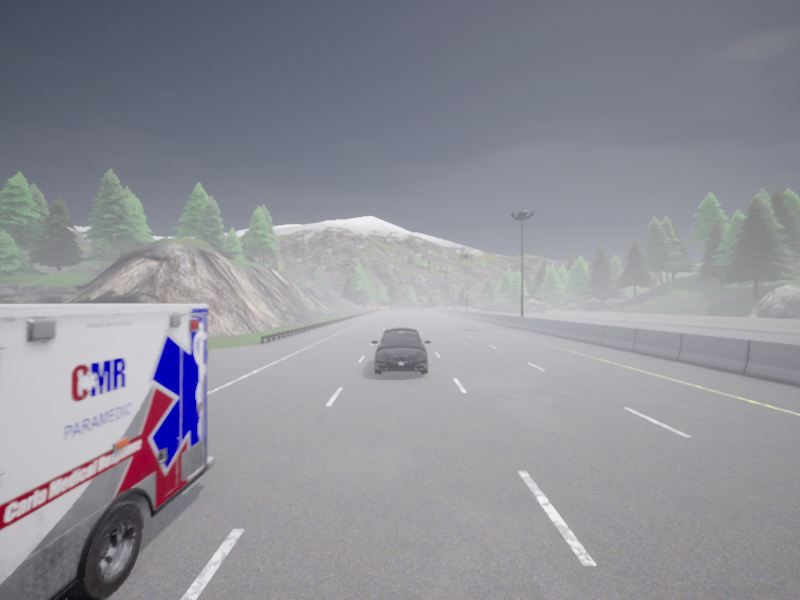vehicle: (0, 303, 214, 599), (371, 327, 431, 373), (453, 307, 457, 309), (474, 306, 478, 308), (479, 305, 481, 307)
